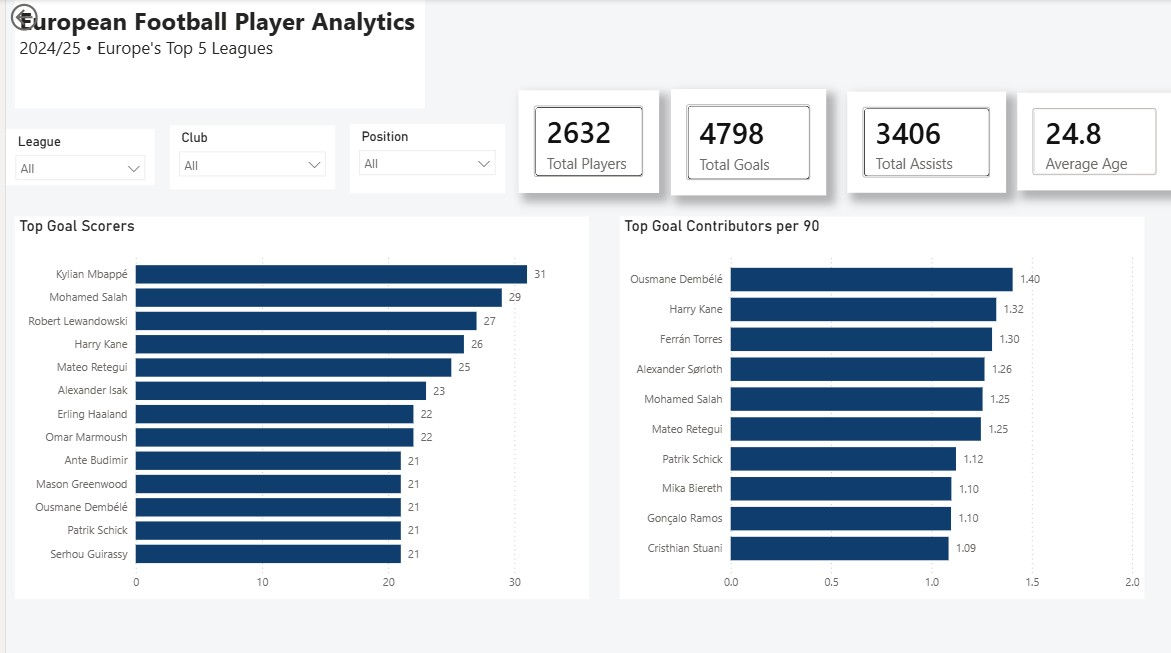

What the dashboard file says about the page in this screenshot:
{"tool":"powerbi","page":{"name":"Player Overview","canvas":[1280,720],"ordinal":0},"visuals":[{"type":"textbox","box":[10,0,450,120],"z":0},{"type":"cardVisual","fields":{"Data":["Players.Total Players"]},"box":[562.9,100,154.3,112.9],"z":1000},{"type":"cardVisual","fields":{"Data":["Players.Total Goals"]},"box":[730,98.6,170,117.1],"z":2000},{"type":"cardVisual","fields":{"Data":["Players.Total Assists"]},"box":[922.9,101.4,174.3,111.4],"z":3000},{"type":"cardVisual","fields":{"Data":["Players.Average Age"]},"box":[1110,102.9,170,107.1],"z":4000},{"type":"clusteredBarChart","title":"Top Goal Scorers","fields":{"Y":["Sum(Players.Gls)"],"Category":["Players.Player"]},"box":[10,238.6,630,420],"z":5000},{"type":"clusteredBarChart","title":"Top Goal Contributors per 90","fields":{"Category":["Players.Player"],"Y":["Players.G+A per 90"]},"box":[674.3,238.6,575.7,420],"z":6000},{"type":"slicer","fields":{"Values":["Players.Squad"]},"box":[180,138.6,181.4,70],"z":7000},{"type":"slicer","fields":{"Values":["Players.Comp"]},"box":[0,142.9,162.9,61.4],"z":8000},{"type":"slicer","fields":{"Values":["Players.Pos"]},"box":[377.1,137.1,170,75.7],"z":9000},{"type":"actionButton","box":[0,0,100,40],"z":10000}]}

Visuals, with their boxes in screenshot pixels (x1, y1, x2, y2), scaled from the page's 1280x720 canvas onto the 1171x653 screenshot:
textbox: (left=9, top=0, right=421, bottom=109)
cardVisual - Players.Total Players: (left=515, top=91, right=656, bottom=193)
cardVisual - Players.Total Goals: (left=668, top=89, right=823, bottom=196)
cardVisual - Players.Total Assists: (left=844, top=92, right=1004, bottom=193)
cardVisual - Players.Average Age: (left=1015, top=93, right=1170, bottom=190)
"Top Goal Scorers" clusteredBarChart: (left=9, top=216, right=586, bottom=597)
"Top Goal Contributors per 90" clusteredBarChart: (left=617, top=216, right=1144, bottom=597)
slicer - Players.Squad: (left=165, top=126, right=331, bottom=189)
slicer - Players.Comp: (left=0, top=130, right=149, bottom=185)
slicer - Players.Pos: (left=345, top=124, right=501, bottom=193)
actionButton: (left=0, top=0, right=91, bottom=36)
